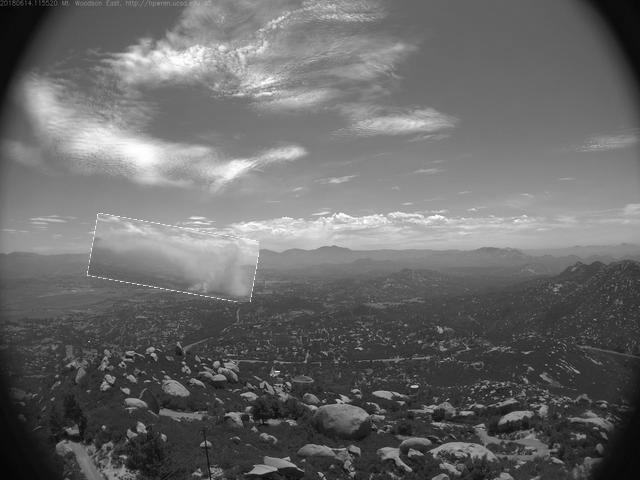smoke: (90, 221, 259, 298)
